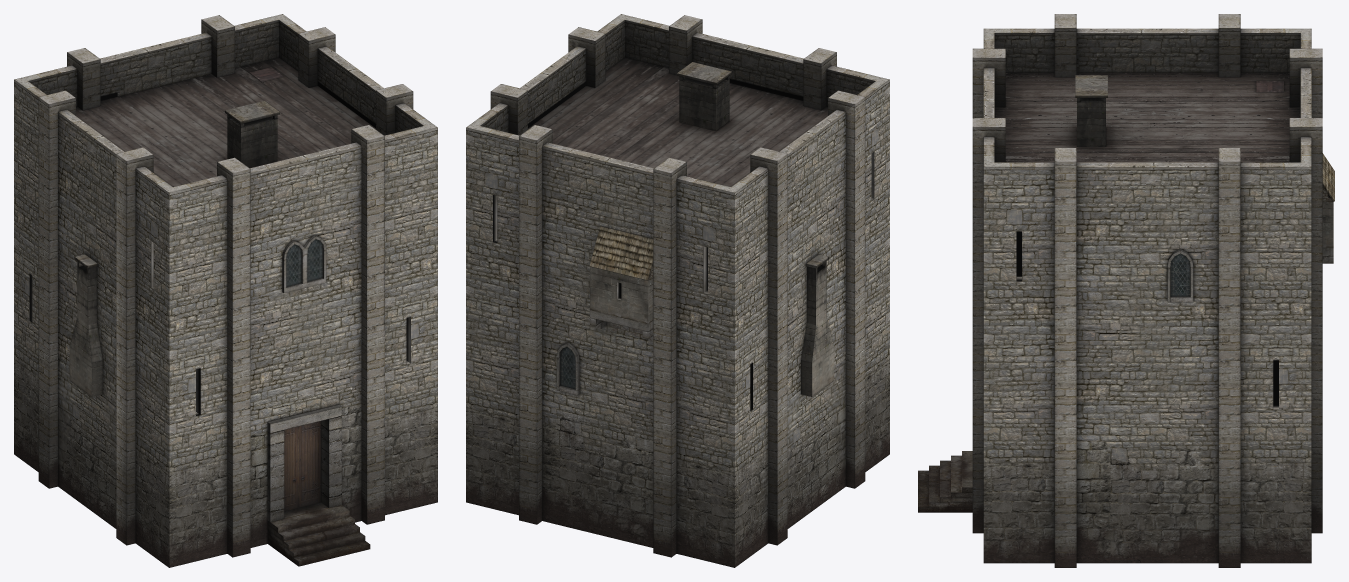
The model's file is Keep.fbx.
3 renders of one model, left to right at view 1: azimuth 30°, elevation 25°; view 2: azimuth 150°, elevation 25°; view 3: azimuth 270°, elevation 25°, orthographic. The views are drawn at different scales.
Parts seen in each view (by area): view 1: Box097; view 2: Box097; view 3: Box097.
Part boxes in pixels (x1,y1,x2,y2): Box097: (14, 14, 437, 567); Box097: (466, 14, 889, 567); Box097: (918, 14, 1334, 567).
Bounding box in the file's own units: 10.31 × 13.2 × 12.2.
Materials: 1 (1 with a texture image).
